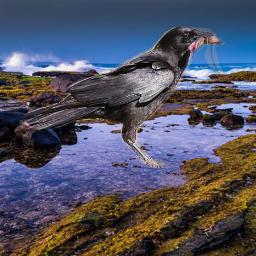Crow: (19, 21, 237, 168)
